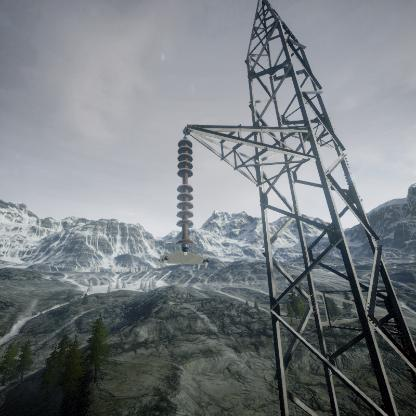insulator: (175, 136, 194, 252)
